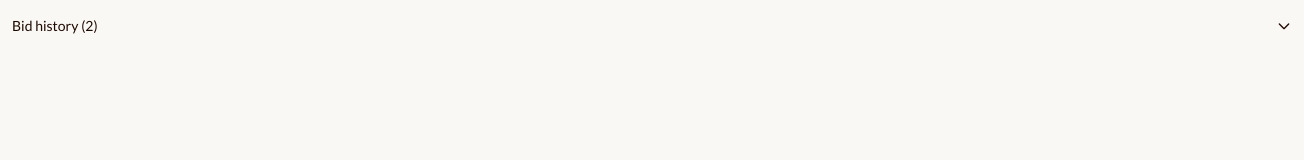
BidHistory › expanded state › renders list of bids with paddle numbers
Step 1. Click the button "Bid history (2)" → x=45, y=26, box [12,16,1292,36]
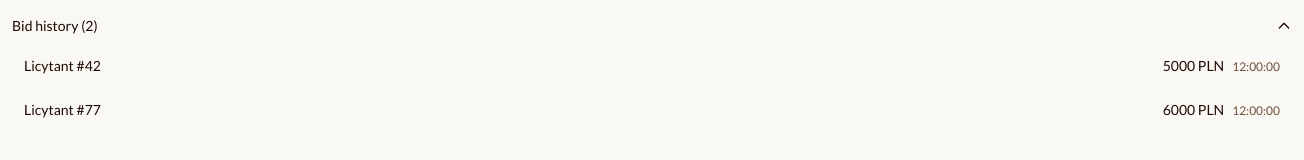
Expected: the text "Licytant #42" is shown, [24,57,101,74]
Expected: the text "Licytant #77" is shown, [24,101,101,118]
